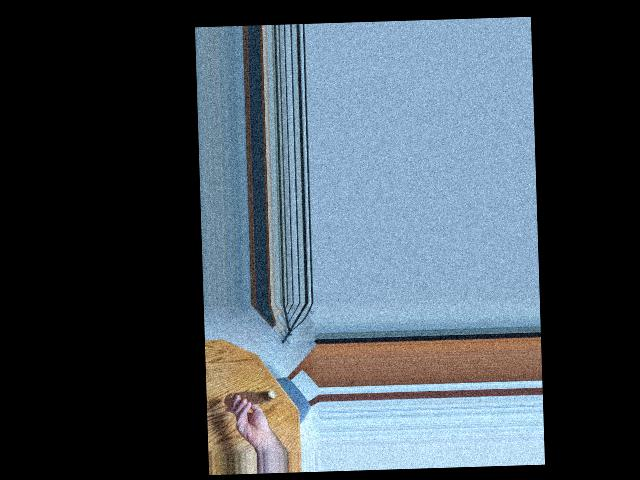sweet_potato: (232, 391, 277, 403)
